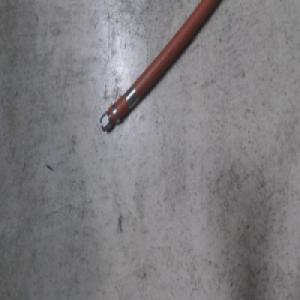Hose: (97, 0, 222, 134)
